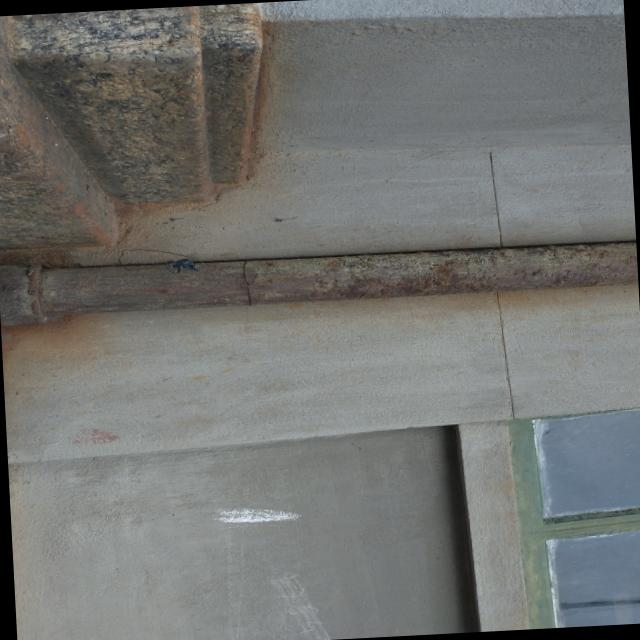gas: (0, 247, 639, 320)
